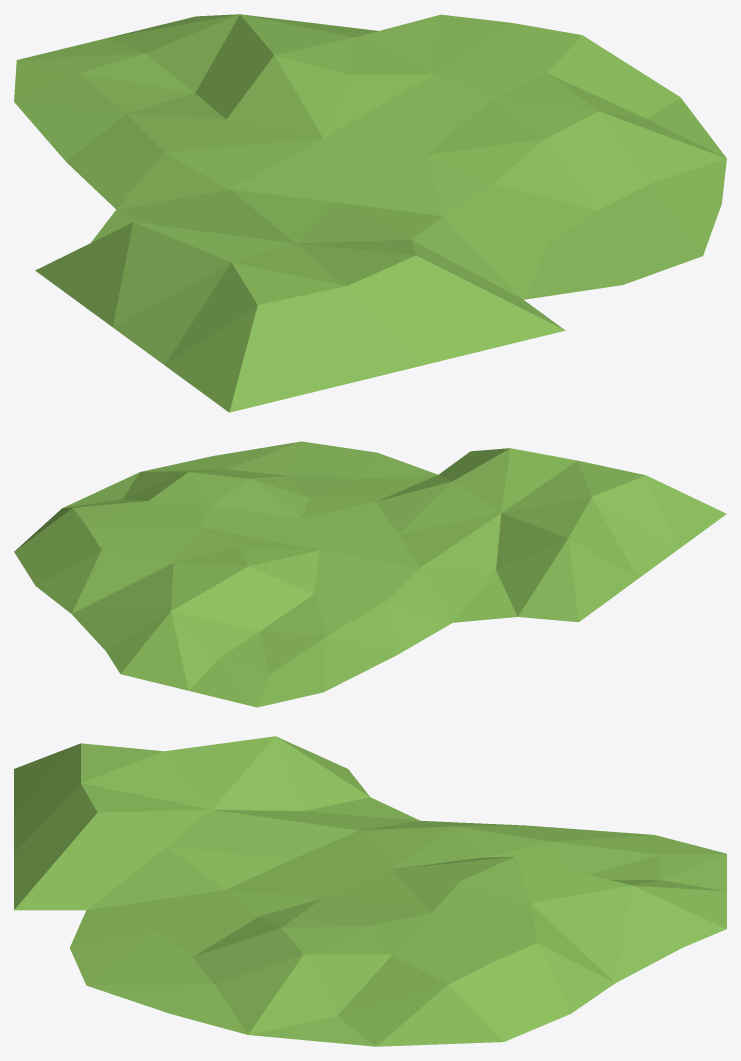
The model's file is MT_Mountain_S_c_19.fbx.
The picture shows the model from 3 angles, top to bottom: view 1: azimuth 30°, elevation 25°; view 2: azimuth 150°, elevation 25°; view 3: azimuth 270°, elevation 25°; orthographic projection. The views are drawn at different scales.
Visible parts, largest first — view 1: MT_Mountain_S_c_19; view 2: MT_Mountain_S_c_19; view 3: MT_Mountain_S_c_19.
Part boxes in pixels (x1,y1,x2,y2): MT_Mountain_S_c_19: [14, 14, 726, 412]; MT_Mountain_S_c_19: [14, 441, 726, 707]; MT_Mountain_S_c_19: [14, 736, 726, 1046].
Size of the model in its own units: 2305 by 218 by 2500.
